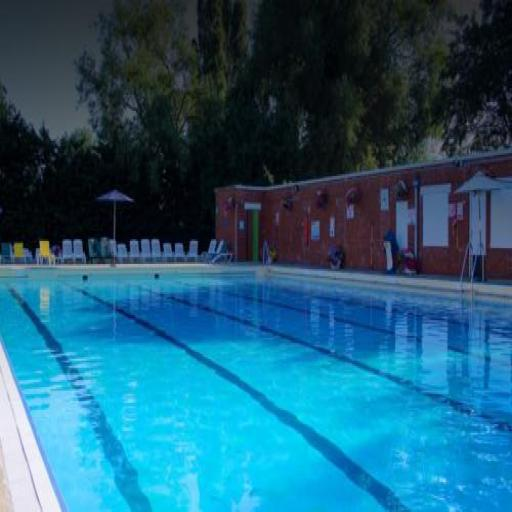swimming: (379, 223, 401, 278), (324, 236, 346, 274), (258, 232, 276, 273)
